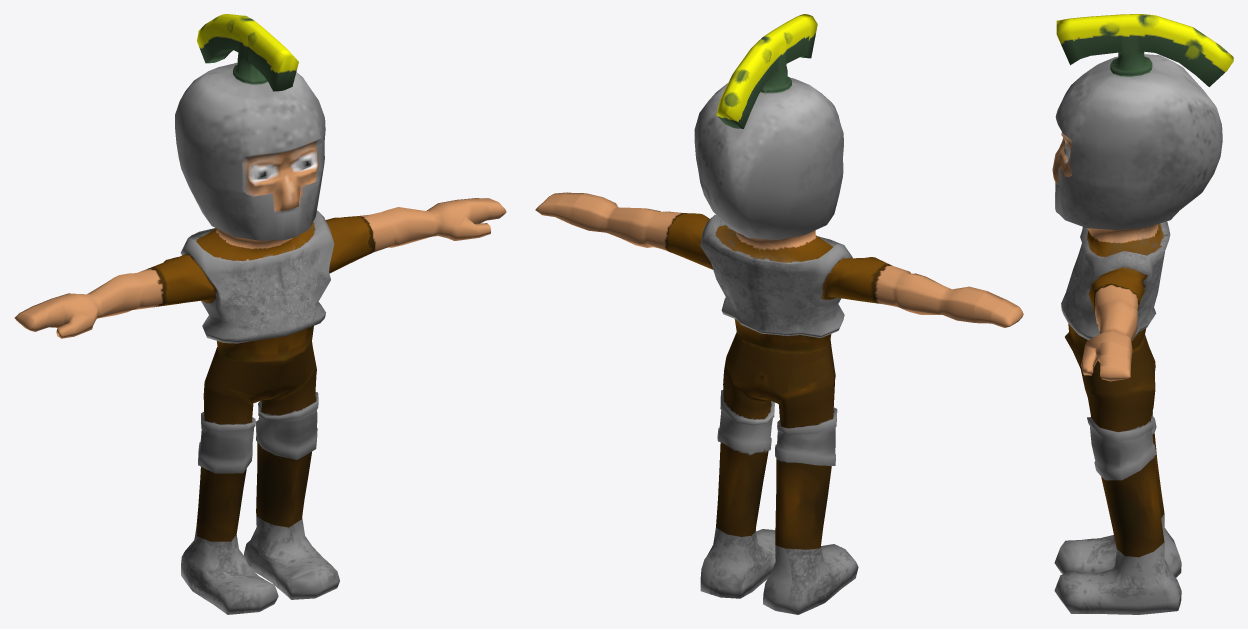
File: Ladle.fbx
3 views of the same model, side by side, from view 1: azimuth 30°, elevation 25°; view 2: azimuth 150°, elevation 25°; view 3: azimuth 270°, elevation 25° (orthographic). The views are drawn at different scales.
Visible parts, largest first — view 1: LadelWight_Complete1:RoadKillOut_0; view 2: LadelWight_Complete1:RoadKillOut_0; view 3: LadelWight_Complete1:RoadKillOut_0.
Part boxes in pixels (bbox=[...]): LadelWight_Complete1:RoadKillOut_0: bbox=[14, 14, 506, 614]; LadelWight_Complete1:RoadKillOut_0: bbox=[535, 14, 1023, 614]; LadelWight_Complete1:RoadKillOut_0: bbox=[1052, 14, 1233, 614].
Bounding box in the file's own units: 21.31 × 23.69 × 6.81.
